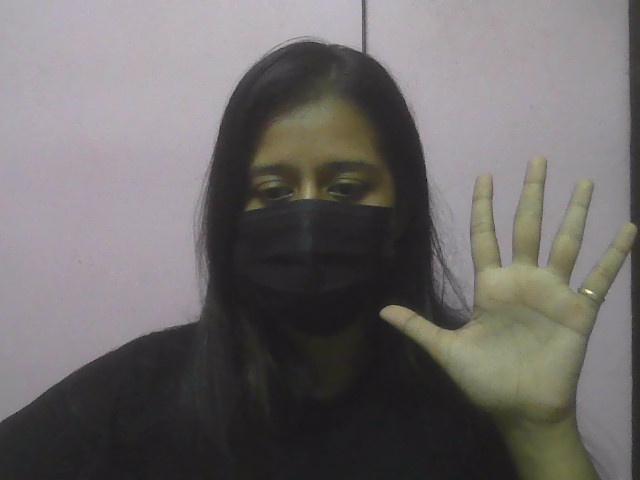Hello: (365, 153, 639, 426)
